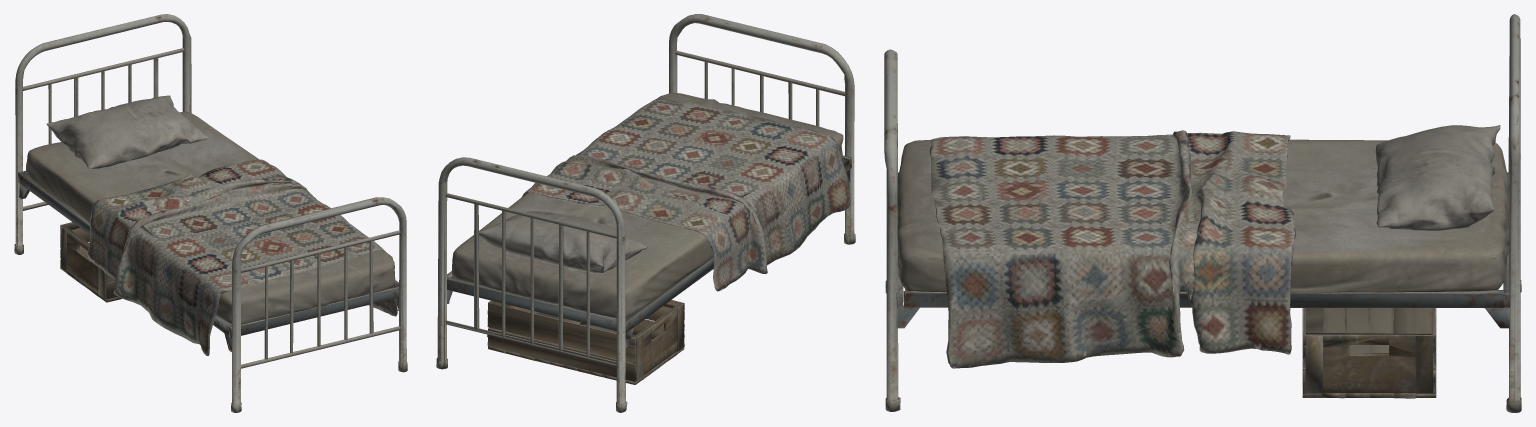
The model's file is silo81_bed_player.glb.
3 renders of one model, left to right at view 1: azimuth 30°, elevation 25°; view 2: azimuth 150°, elevation 25°; view 3: azimuth 270°, elevation 25°, orthographic. The views are drawn at different scales.
Size of the model in its own units: 0.5176 by 0.4834 by 0.9536.
Materials: 1 (1 with a texture image).
